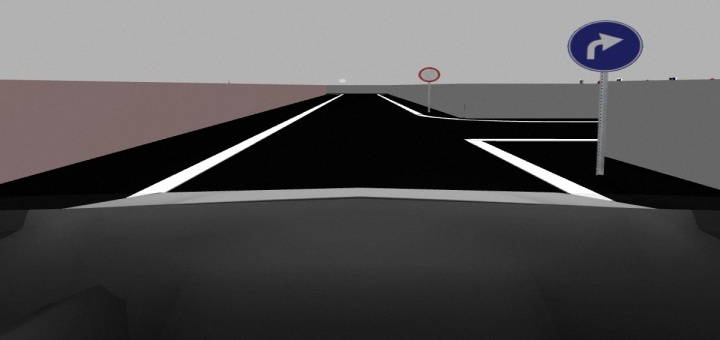girilmez: (418, 65, 441, 84)
saga_don: (563, 16, 649, 76)
